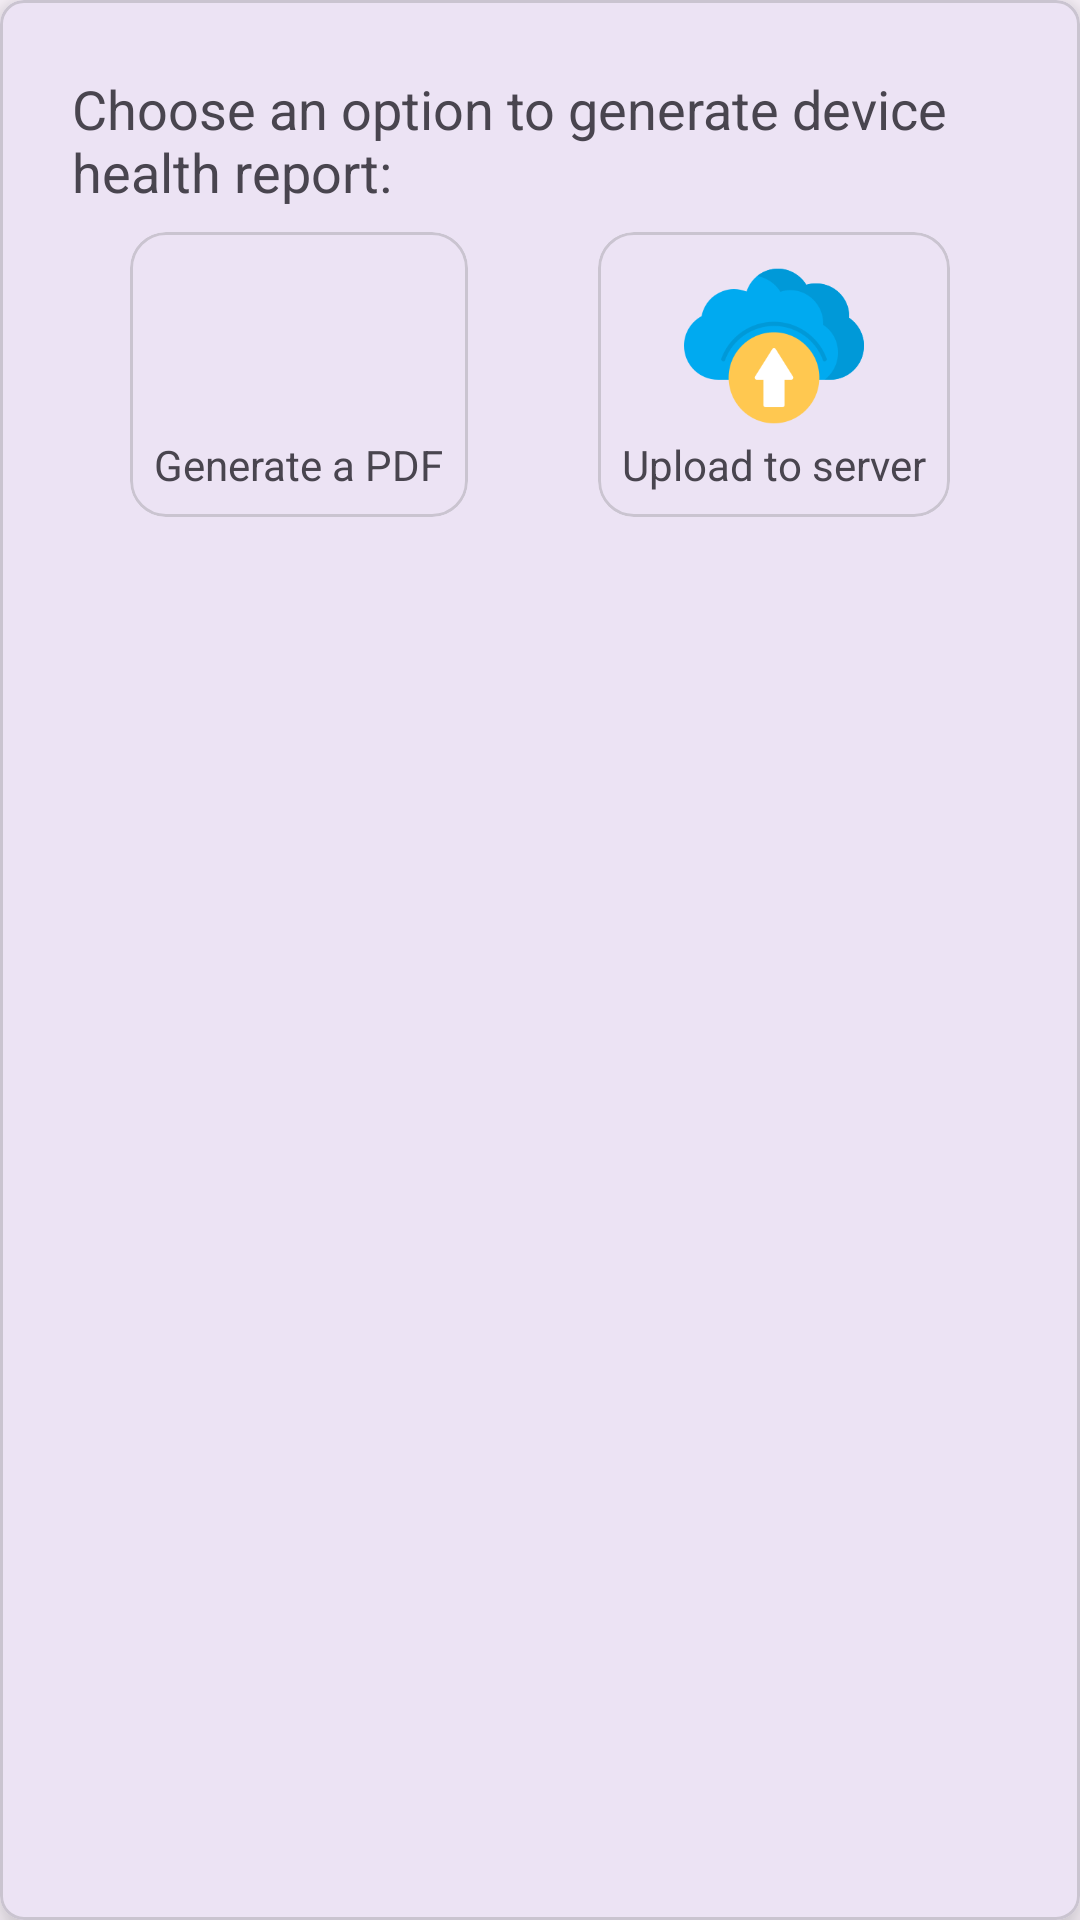

Locate icon controls on the screen. Image size 1080w x 1920h, boxes as bbox=[x1, y1, x2, y2].
cloud: bbox=[684, 268, 864, 424]
